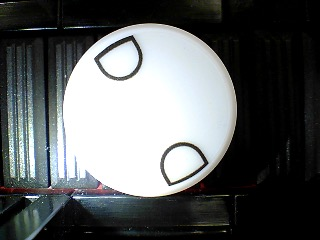MIPO2: (62, 22, 238, 197)
